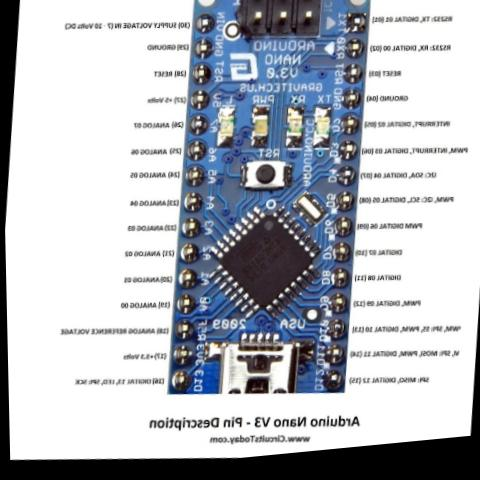Arduino-Nano: (152, 0, 385, 417)
